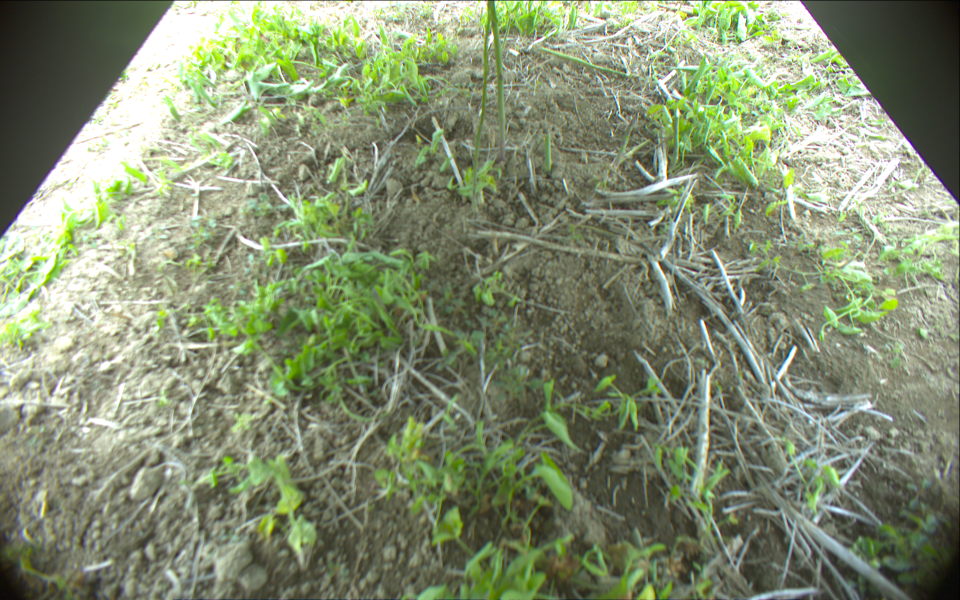aspa: (472, 1, 494, 176), (538, 47, 635, 80), (490, 1, 507, 161), (545, 130, 554, 175)
